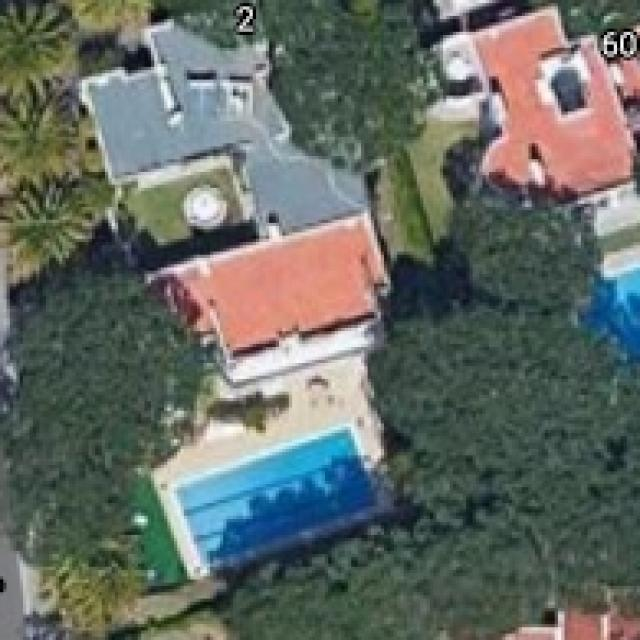pool: (158, 409, 399, 588), (550, 258, 637, 400)
